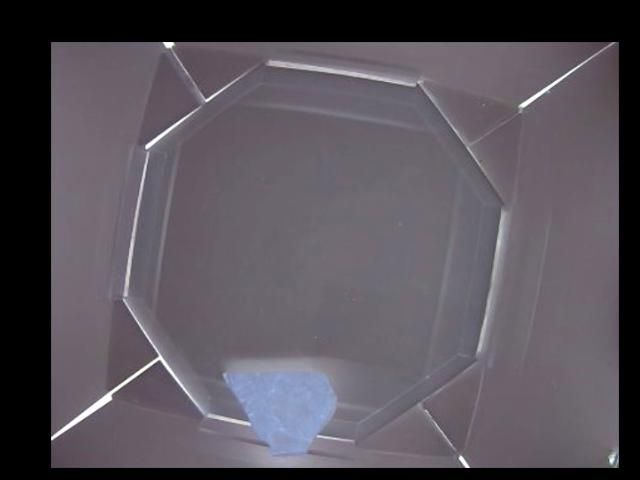China: (220, 371, 335, 458)
